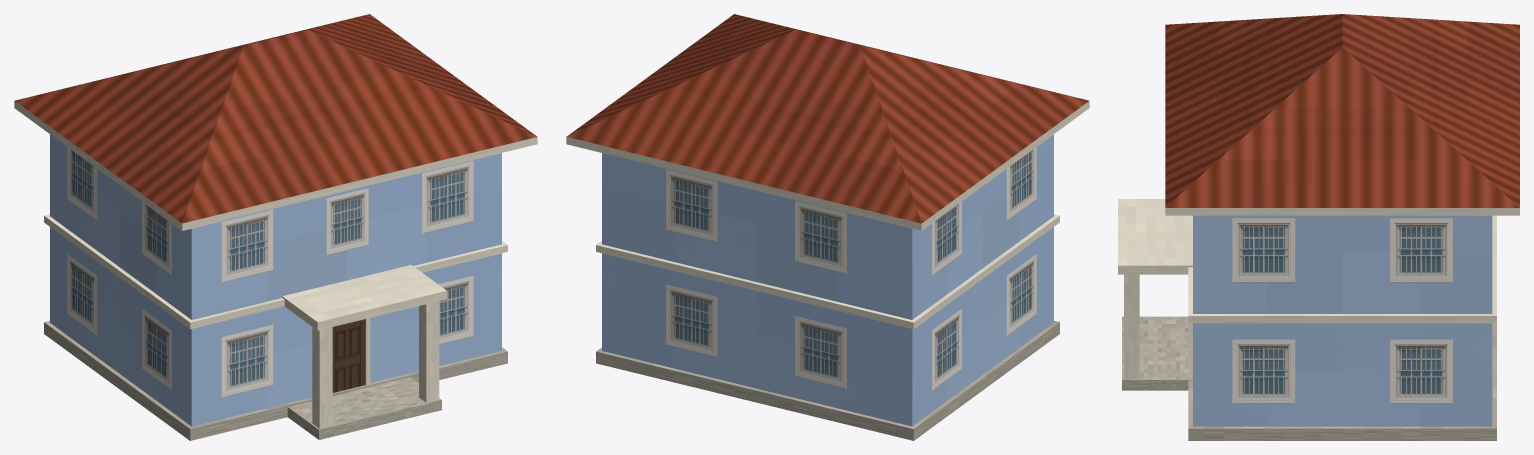
File: house2-sky-far.glb
The picture shows the model from 3 angles, left to right: view 1: azimuth 30°, elevation 25°; view 2: azimuth 150°, elevation 25°; view 3: azimuth 270°, elevation 25°; orthographic projection. The views are drawn at different scales.
Visible parts, largest first — view 1: house2-sky; view 2: house2-sky; view 3: house2-sky.
Boxes of the visible parts, x1=… form: house2-sky: x1=14, y1=14, x2=537, y2=440; house2-sky: x1=566, y1=14, x2=1089, y2=440; house2-sky: x1=1118, y1=14, x2=1519, y2=440.
Bounding box in the file's own units: 11 × 9.2 × 10.2.
Materials: 1 (1 with a texture image).
